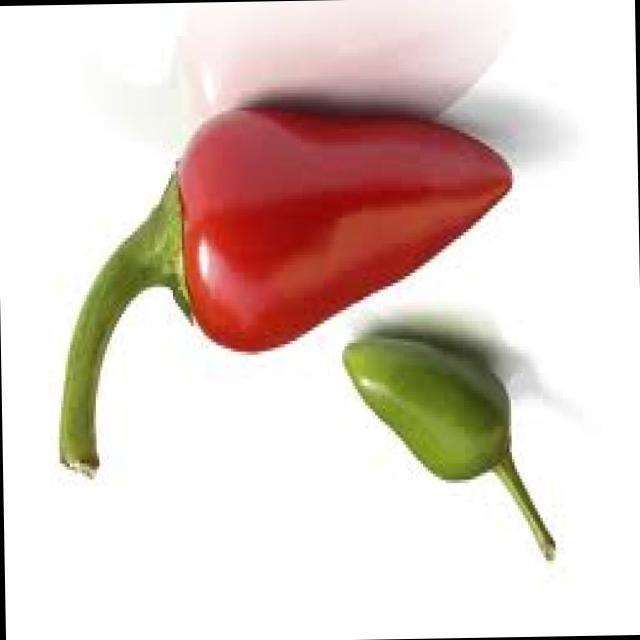Chili: (15, 76, 541, 477)
